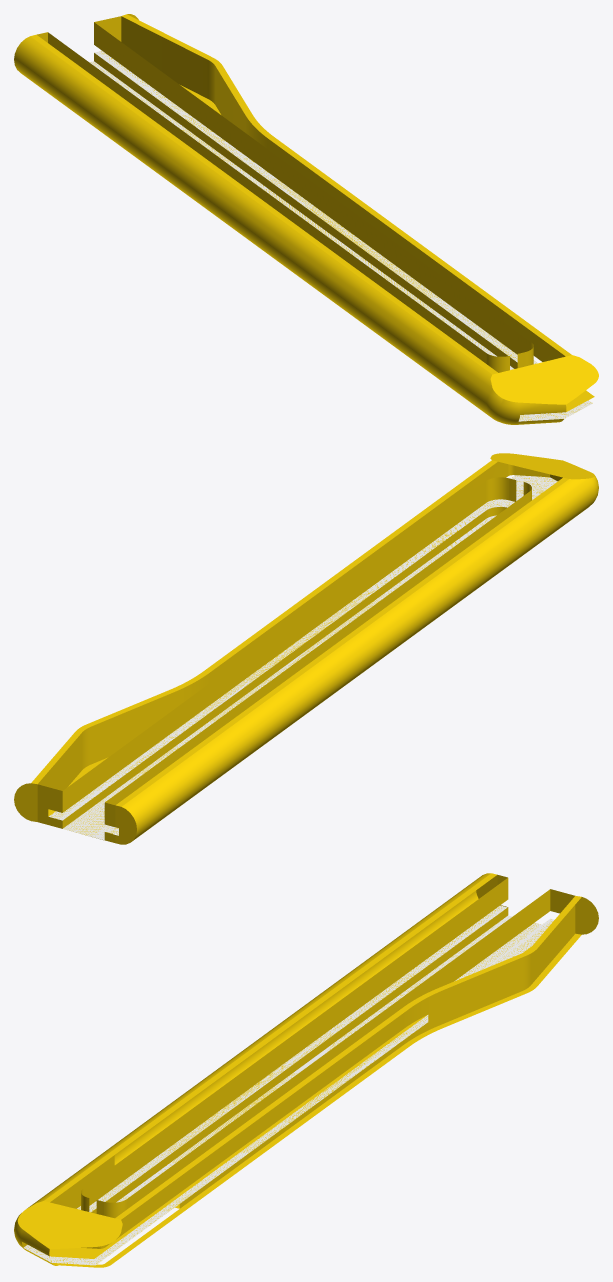
Rendered from original-26.obj.
The picture shows the model from 3 angles, top to bottom: view 1: azimuth 30°, elevation 25°; view 2: azimuth 150°, elevation 25°; view 3: azimuth 330°, elevation 25°; orthographic projection. The views are drawn at different scales.
Parts seen in each view (by area): view 1: #ID137; view 2: #ID137; view 3: #ID137.
Part boxes in pixels (left/top/right/bottom): #ID137: left=14, top=14, right=598, bottom=424; #ID137: left=14, top=453, right=598, bottom=844; #ID137: left=14, top=873, right=598, bottom=1267.
Bounding box in the file's own units: 0.2576 × 0.0733 × 1.68.
